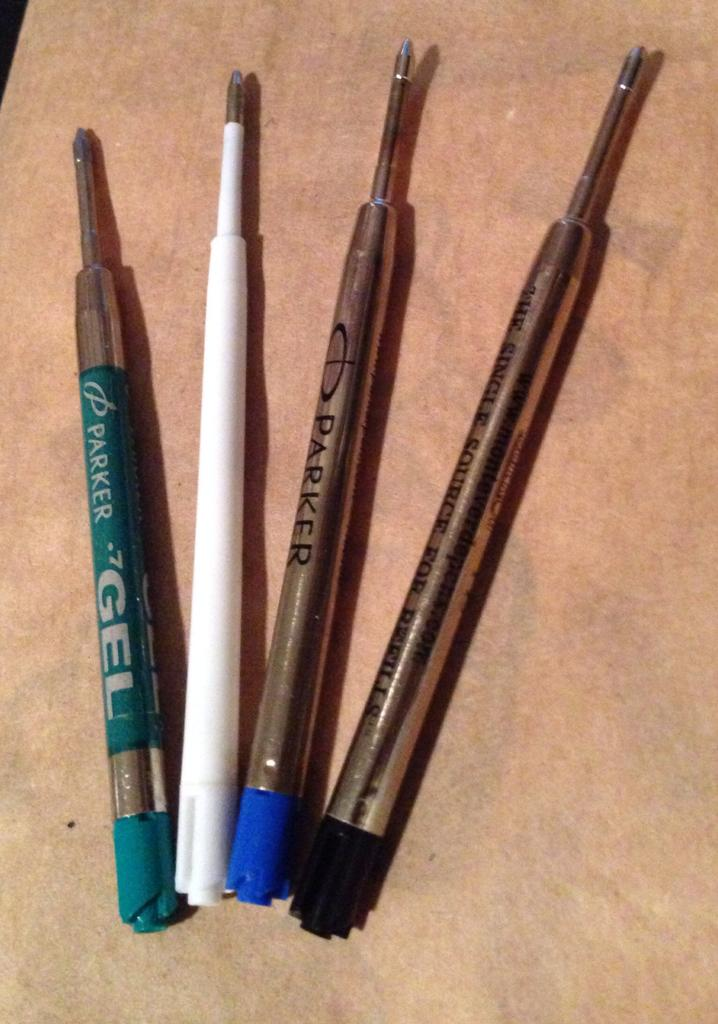pen: (290, 35, 649, 945), (229, 53, 404, 914), (82, 121, 173, 936), (169, 63, 243, 917)
